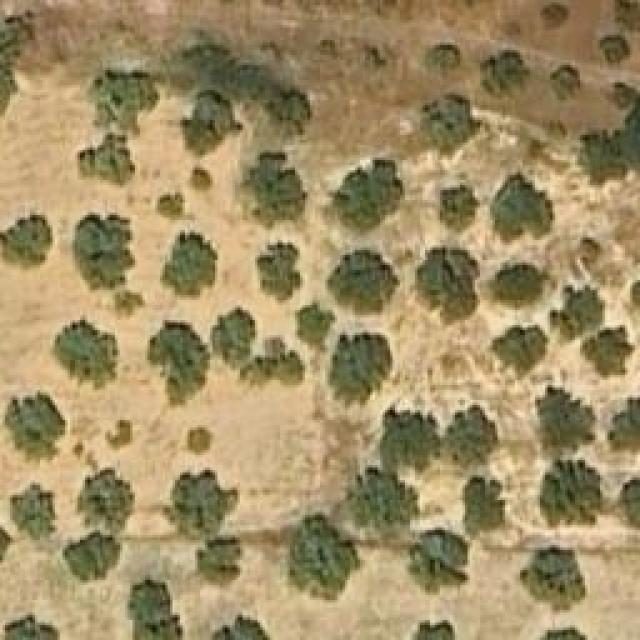Tree: (50, 315, 123, 390), (148, 320, 211, 405), (330, 160, 403, 233), (238, 153, 308, 228), (288, 510, 351, 593), (418, 245, 483, 323), (345, 470, 413, 543), (490, 170, 553, 245), (73, 212, 133, 290), (328, 250, 401, 313), (408, 527, 471, 595), (5, 390, 65, 460), (330, 335, 390, 405), (535, 385, 595, 455), (520, 548, 585, 611), (580, 127, 640, 195), (540, 460, 600, 528), (160, 230, 218, 300), (180, 90, 240, 153), (95, 67, 150, 135), (170, 472, 225, 540), (422, 95, 480, 155), (383, 410, 443, 468), (248, 338, 308, 393), (488, 325, 548, 378), (130, 580, 183, 640), (490, 260, 555, 308), (75, 470, 128, 525), (0, 215, 52, 270), (460, 475, 505, 538), (550, 288, 603, 341), (10, 483, 55, 543), (448, 408, 493, 468), (258, 242, 301, 300), (583, 327, 633, 375), (68, 533, 121, 578), (265, 85, 308, 140), (82, 135, 130, 183), (213, 308, 256, 361), (480, 53, 525, 98), (210, 612, 280, 640), (607, 395, 640, 452), (297, 302, 335, 350), (200, 540, 240, 583), (440, 185, 478, 230), (2, 615, 60, 640), (548, 65, 583, 103), (617, 477, 640, 532), (600, 30, 630, 65), (430, 43, 458, 76), (155, 193, 185, 223), (415, 620, 458, 640), (615, 0, 640, 32), (542, 3, 570, 28), (108, 420, 133, 448), (188, 425, 213, 453), (363, 45, 388, 70), (315, 35, 338, 58), (192, 170, 210, 188)
